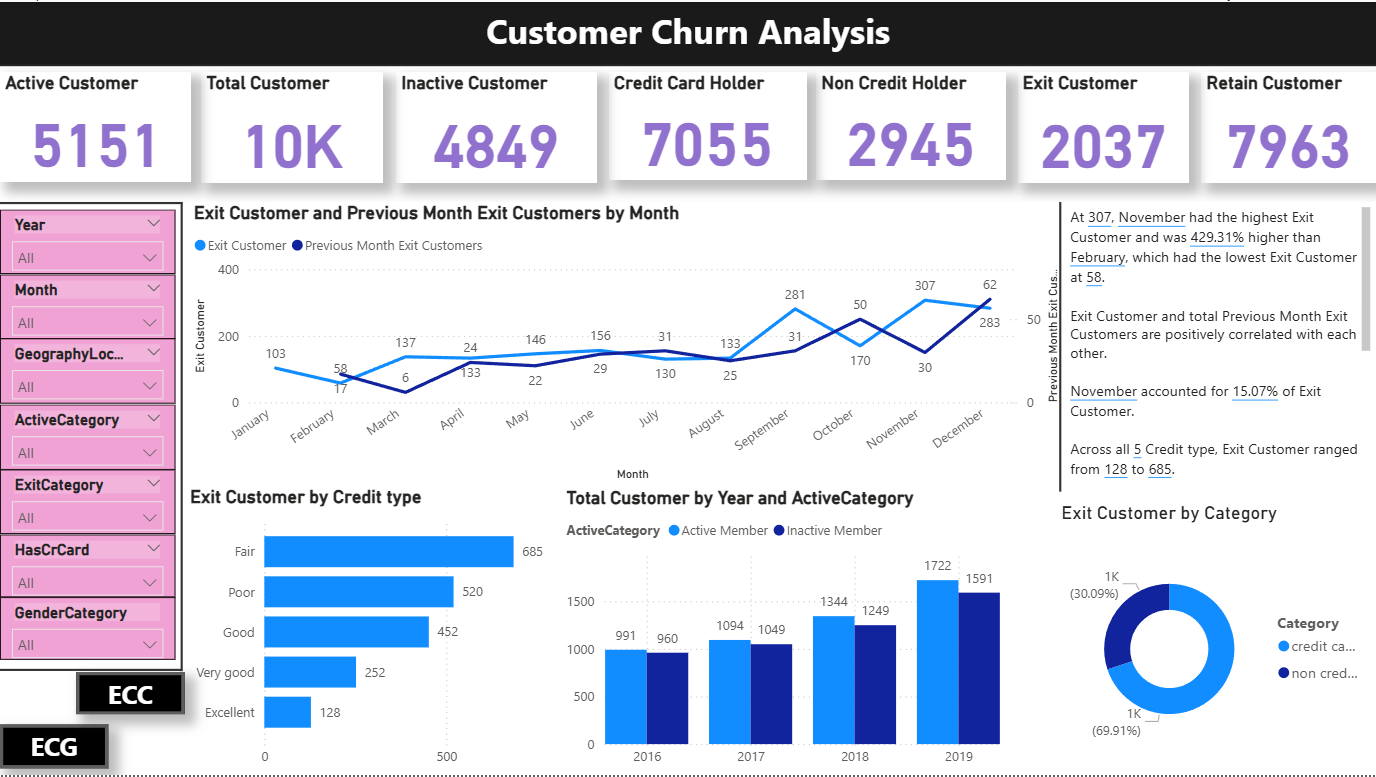

What the dashboard file says about the page in this screenshot:
{"tool":"powerbi","page":{"name":"Page 1","canvas":[1280,720],"ordinal":0},"visuals":[{"type":"card","title":"Active Customer ","fields":{"Values":["Copy of Bank_Departure.Active_customer"]},"box":[0,65.1,177.9,102.3],"z":0},{"type":"card","title":"Total Customer","fields":{"Values":["Copy of Bank_Departure.Total_Customer"]},"box":[187.2,65.1,168.6,103.5],"z":1000},{"type":"card","title":"Inactive Customer","fields":{"Values":["Copy of Bank_Departure.Inactive_Customer"]},"box":[368.6,65.1,186,103.5],"z":2000},{"type":"card","title":"Credit Card Holder","fields":{"Values":["Copy of Bank_Departure.Credit_cardHolder"]},"box":[566.3,65.1,183.7,101.2],"z":3000},{"type":"card","title":"Non Credit Holder","fields":{"Values":["Copy of Bank_Departure.Non_credit_cardholder"]},"box":[759.3,65.1,176.7,101.2],"z":4000},{"type":"card","title":"Exit Customer","fields":{"Values":["Copy of Bank_Departure.Exit_Customer"]},"box":[946.5,65.1,159.3,103.5],"z":5000},{"type":"card","title":"Retain Customer","fields":{"Values":["Copy of Bank_Departure.Retain_Customer"]},"box":[1117.4,65.1,162.8,103.5],"z":6000},{"type":"textbox","box":[0,0,1280.2,59.3],"z":7000},{"type":"shape","box":[0,52.3,1280.2,12.8],"z":8000},{"type":"slicer","fields":{"Values":["DateMaster.Year"]},"box":[0,193.3,162.8,59.9],"z":9000},{"type":"slicer","fields":{"Values":["Copy of Gender.GenderCategory"]},"box":[0,554,162.8,58.8],"z":10000},{"type":"slicer","fields":{"Values":["DateMaster.Month"]},"box":[0,253.3,162.8,59.9],"z":11000},{"type":"slicer","fields":{"Values":["Copy of Bank_Departure.HasCrCard"]},"box":[0,495.2,162.8,58.8],"z":12000},{"type":"slicer","fields":{"Values":["Copy of Geography.GeographyLocation"]},"box":[0,313.2,162.8,61.1],"z":13000},{"type":"slicer","fields":{"Values":["Copy of ActiveCustomer.ActiveCategory"]},"box":[0,374.2,162.8,61.1],"z":14000},{"type":"slicer","fields":{"Values":["Copy of ExitCustomer.ExitCategory"]},"box":[0,435.3,162.8,59.9],"z":15000},{"type":"shape","box":[162.8,186.6,12.4,436.4],"z":16000},{"type":"shape","box":[0,179.8,169.6,13.6],"z":17000},{"type":"clusteredColumnChart","fields":{"Y":["Copy of Bank_Departure.Total_Customer"],"Category":["DateMaster.Year"],"Series":["Copy of ActiveCustomer.ActiveCategory"]},"box":[522.6,450.6,413.3,269.4],"z":18000},{"type":"lineChart","fields":{"Y":["Copy of Bank_Departure.Exit_Customer"],"Y2":["Copy of Bank_Departure.Previous Month Exit Customers"],"Category":["DateMaster.Month"]},"box":[175,186.2,815.5,264.4],"z":19000},{"type":"donutChart","fields":{"Y":["Copy of Bank_Departure.Exit_Customer"],"Category":["Copy of Gender.GenderCategory"]},"box":[177.9,450,343,269.8],"z":20000},{"type":"actionButton","box":[0,671.6,100.6,40.7],"z":22000},{"type":"actionButton","box":[71.2,623,100.6,39.6],"z":23000},{"type":"shape","box":[0,613.9,169.6,14.7],"z":24000},{"type":"donutChart","fields":{"Y":["Copy of Bank_Departure.Exit Customer"],"Category":["Copy of CreditCard.Category"]},"box":[982.6,465.1,297.7,254.7],"z":25000},{"type":"shape","box":[983.1,186.2,7.4,269.4],"z":26000},{"type":"textbox","box":[990.5,186.2,289.2,264.4],"z":27000}]}

Visuals, with their boxes in screenshot pixels (x1, y1, x2, y2), scaled from the page's 1280x720 canvas onto the 1376x777 screenshot:
"Active Customer " card: <bbox>0, 70, 191, 181</bbox>
"Total Customer" card: <bbox>201, 70, 382, 182</bbox>
"Inactive Customer" card: <bbox>396, 70, 596, 182</bbox>
"Credit Card Holder" card: <bbox>609, 70, 806, 179</bbox>
"Non Credit Holder" card: <bbox>816, 70, 1006, 179</bbox>
"Exit Customer" card: <bbox>1017, 70, 1189, 182</bbox>
"Retain Customer" card: <bbox>1201, 70, 1375, 182</bbox>
textbox: <bbox>0, 0, 1375, 64</bbox>
shape: <bbox>0, 56, 1375, 70</bbox>
slicer - DateMaster.Year: <bbox>0, 209, 175, 273</bbox>
slicer - Copy of Gender.GenderCategory: <bbox>0, 598, 175, 661</bbox>
slicer - DateMaster.Month: <bbox>0, 273, 175, 338</bbox>
slicer - Copy of Bank_Departure.HasCrCard: <bbox>0, 534, 175, 598</bbox>
slicer - Copy of Geography.GeographyLocation: <bbox>0, 338, 175, 404</bbox>
slicer - Copy of ActiveCustomer.ActiveCategory: <bbox>0, 404, 175, 470</bbox>
slicer - Copy of ExitCustomer.ExitCategory: <bbox>0, 470, 175, 534</bbox>
shape: <bbox>175, 201, 188, 672</bbox>
shape: <bbox>0, 194, 182, 209</bbox>
clusteredColumnChart - Copy of Bank_Departure.Total_Customer x DateMaster.Year: <bbox>562, 486, 1006, 776</bbox>
lineChart - Copy of Bank_Departure.Exit_Customer x Copy of Bank_Departure.Previous Month Exit Customers: <bbox>188, 201, 1065, 486</bbox>
donutChart - Copy of Bank_Departure.Exit_Customer x Copy of Gender.GenderCategory: <bbox>191, 486, 560, 776</bbox>
actionButton: <bbox>0, 725, 108, 769</bbox>
actionButton: <bbox>77, 672, 185, 715</bbox>
shape: <bbox>0, 663, 182, 678</bbox>
donutChart - Copy of Bank_Departure.Exit Customer x Copy of CreditCard.Category: <bbox>1056, 502, 1375, 776</bbox>
shape: <bbox>1057, 201, 1065, 492</bbox>
textbox: <bbox>1065, 201, 1375, 486</bbox>
